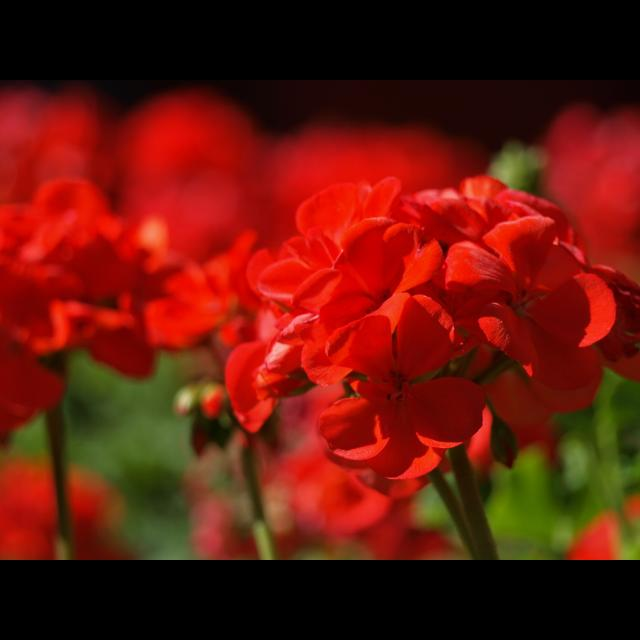Flower: (1, 95, 640, 560), (310, 289, 482, 487)
